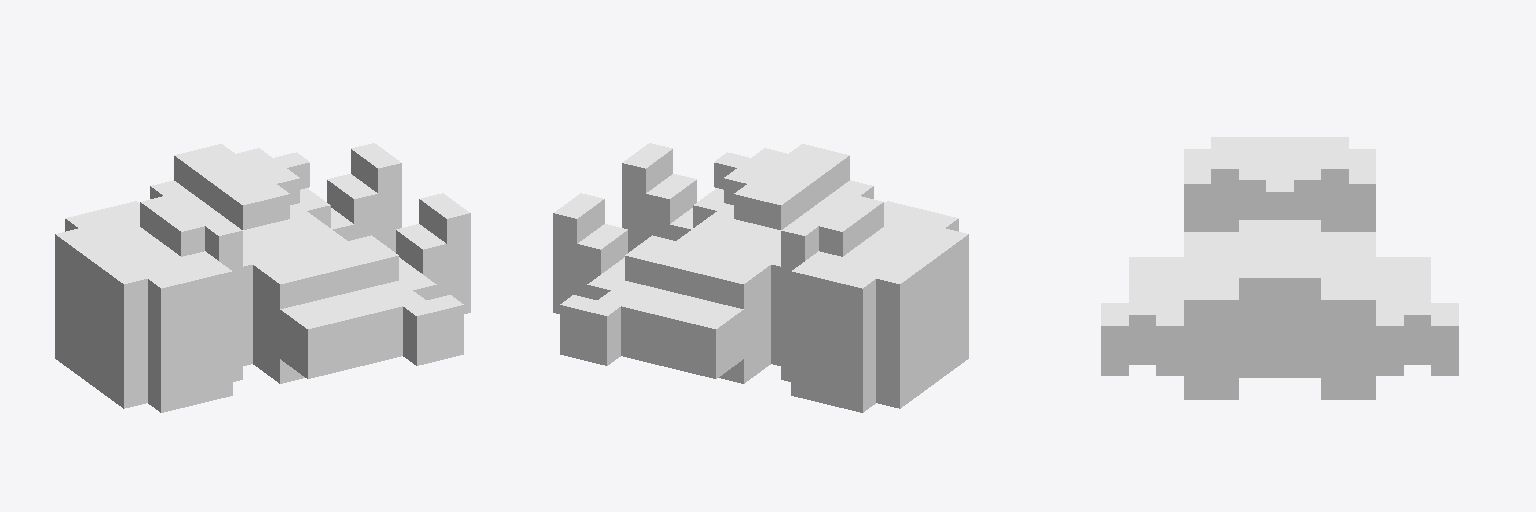
Rendered from lvl2-8.obj.
3 views of the same model, side by side, from view 1: azimuth 30°, elevation 25°; view 2: azimuth 150°, elevation 25°; view 3: azimuth 270°, elevation 25° (orthographic).
Parts seen in each view (by area): view 1: object 1; view 2: object 1; view 3: object 1.
Boxes of the visible parts, <box> form: object 1: <box>55,143,470,412</box>; object 1: <box>553,143,968,412</box>; object 1: <box>1101,137,1458,399</box>.
Bounding box in the file's own units: 1.4 × 0.7 × 1.3.